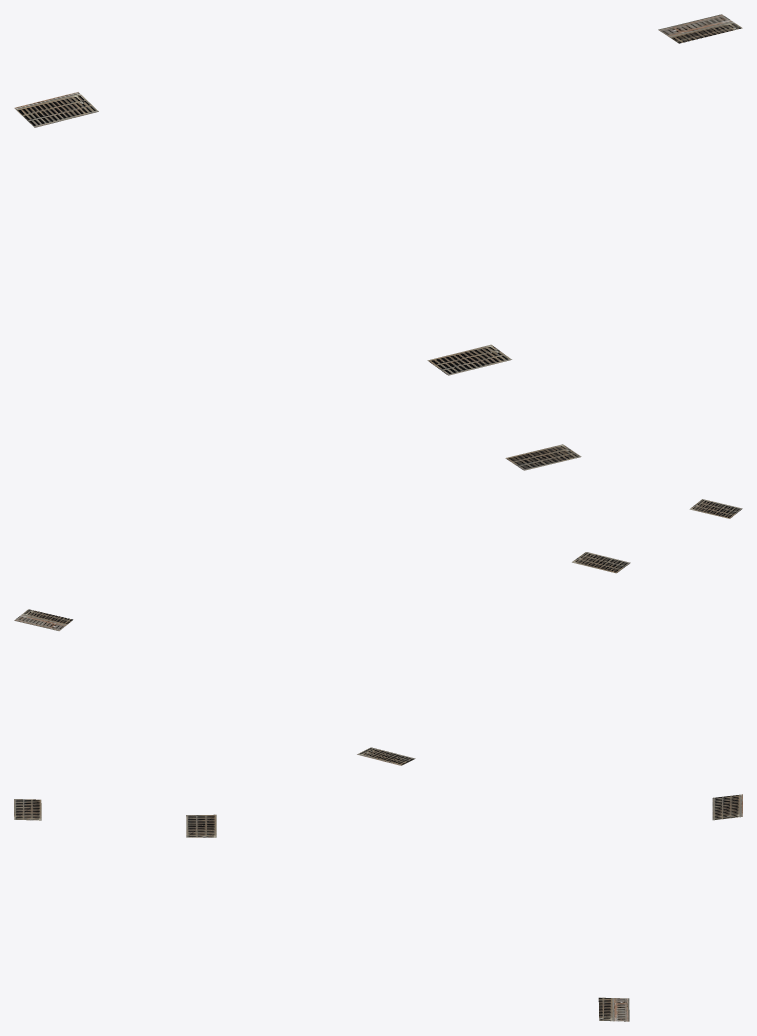
File: Corridor_01_04.fbx
3 renders of one model, top to bottom at view 1: azimuth 30°, elevation 25°; view 2: azimuth 150°, elevation 25°; view 3: azimuth 270°, elevation 25°, orthographic. The views are drawn at different scales.
Parts seen in each view (by area): view 1: Corridor_01_04; view 2: Corridor_01_04; view 3: Corridor_01_04.
Part boxes in pixels (x1,y1,x2,y2): Corridor_01_04: (14,14,742,470); Corridor_01_04: (14,499,742,765); Corridor_01_04: (14,794,742,1021).
Bounding box in the file's own units: 1679 × 13.45 × 2299.
